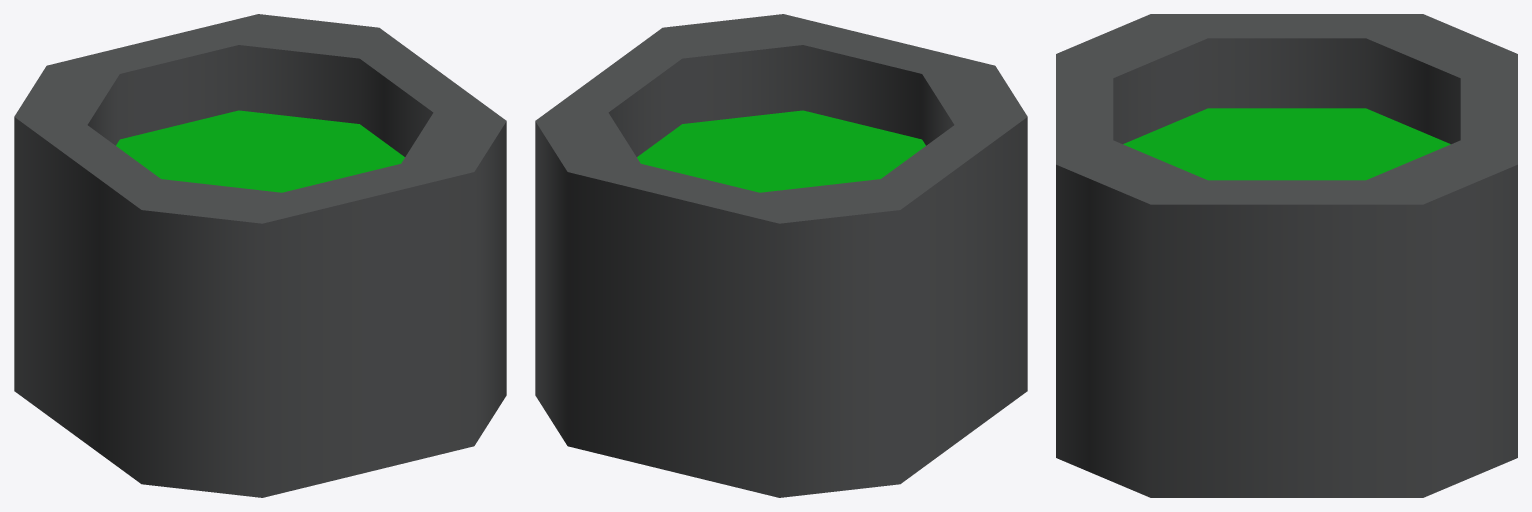
File: plantspot 3.fbx
The picture shows the model from 3 angles, left to right: view 1: azimuth 30°, elevation 25°; view 2: azimuth 150°, elevation 25°; view 3: azimuth 270°, elevation 25°; orthographic projection. The views are drawn at different scales.
Visible parts, largest first — view 1: PlantPot_B; view 2: PlantPot_B; view 3: PlantPot_B.
Boxes of the visible parts, x1=… form: PlantPot_B: x1=14, y1=14, x2=506, y2=497; PlantPot_B: x1=535, y1=14, x2=1027, y2=497; PlantPot_B: x1=1056, y1=14, x2=1517, y2=497.
Size of the model in its own units: 107 by 76.7 by 109.
